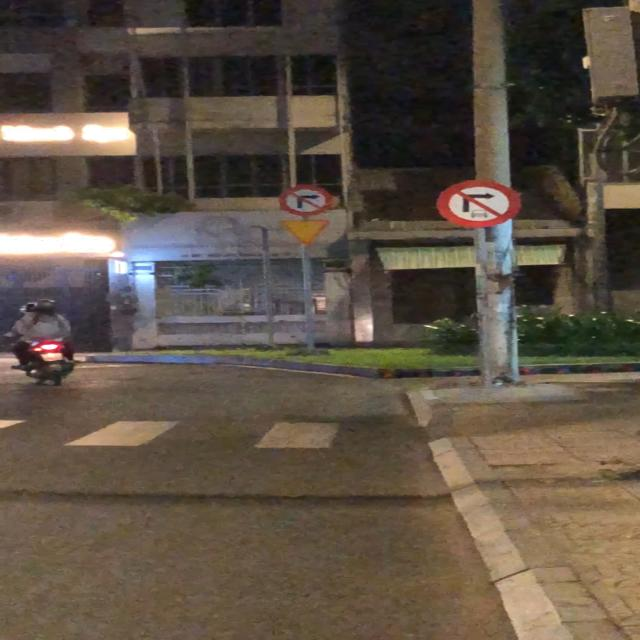Bien bao cam re phai: (274, 185, 335, 216)
Bien bao cam xe o to re phai: (437, 177, 528, 230)
Bien bao giao nhau voi duong uu tien: (275, 217, 333, 245)
